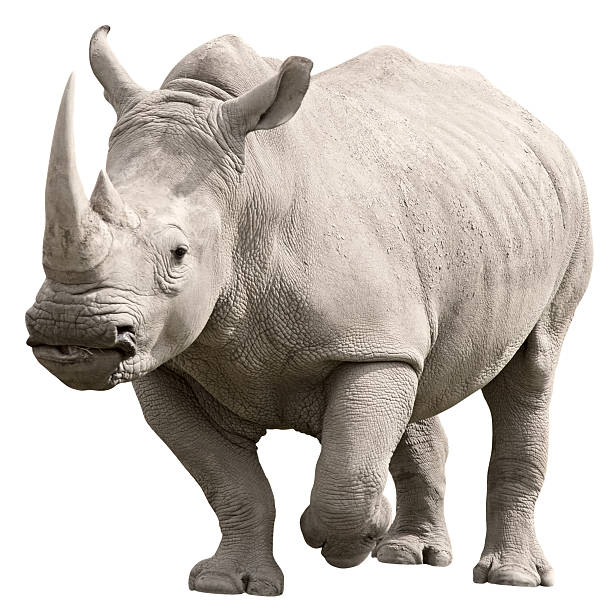rhino: (7, 4, 336, 432)
